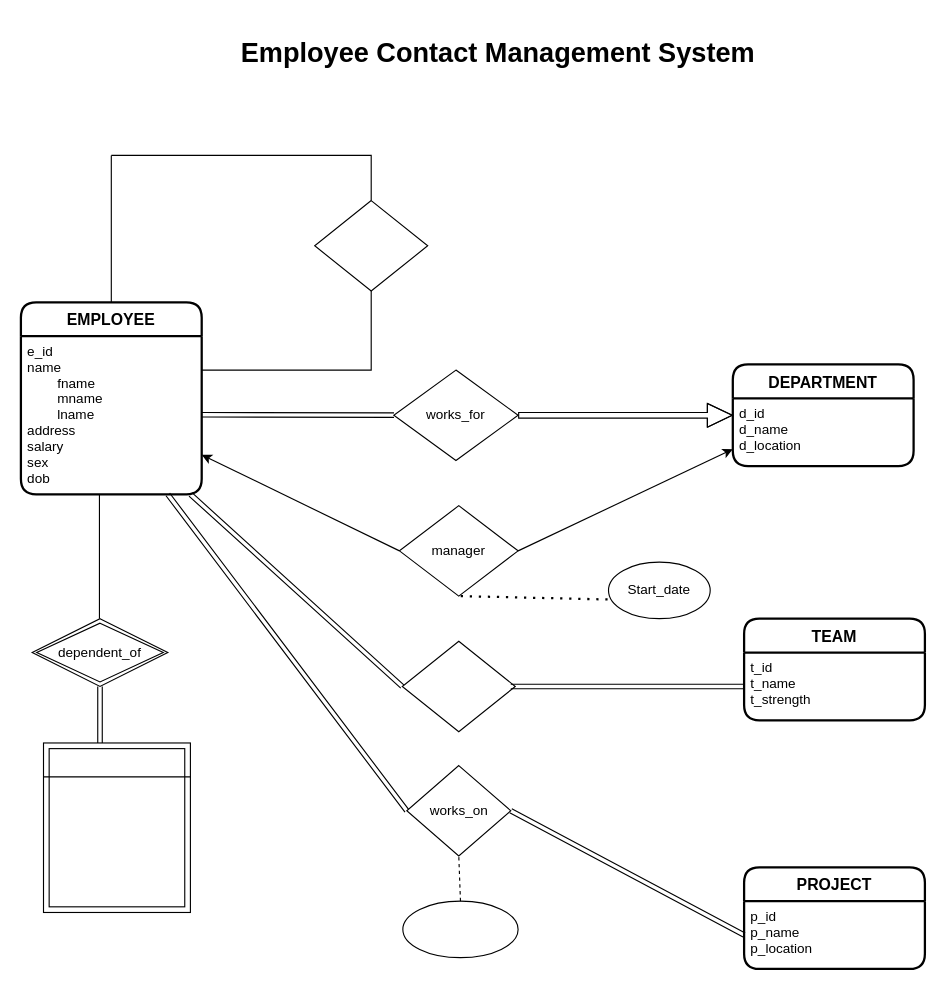
The diagram is 945 pixels wide and 989 high, and some of its shapes have lost their labels. Each missing label, with the centre of its shape:
"Dependent name sex Bdate relationship" goes at (x=116, y=827).
"hours_work" goes at (x=460, y=929).
"supervision" goes at (x=371, y=245).
"works_in" goes at (x=458, y=686).
